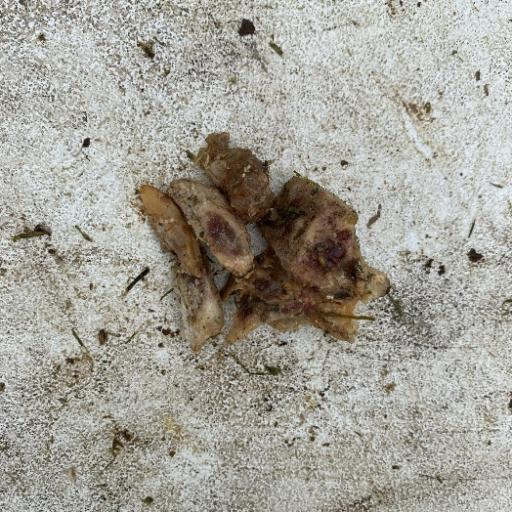Waste: (134, 130, 392, 355)
